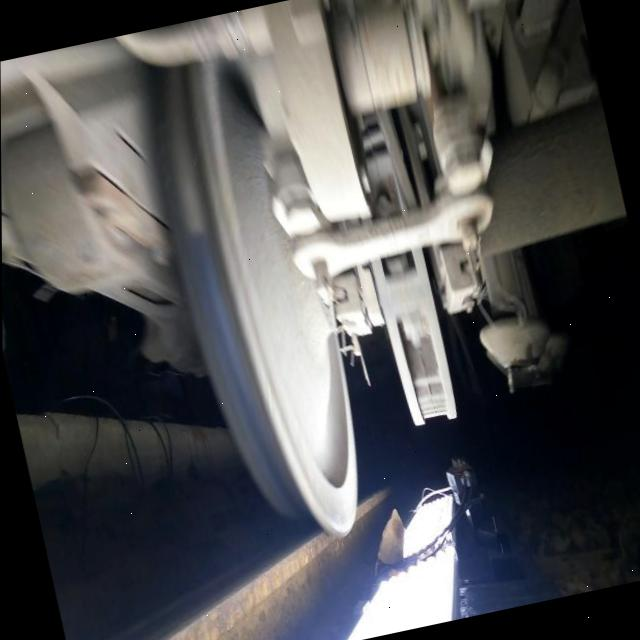Shelling: (161, 69, 208, 235)
Wheel: (155, 62, 357, 536)
